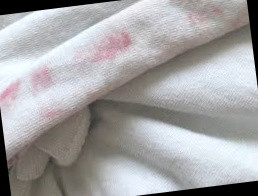lipstick: (72, 37, 135, 64), (188, 7, 234, 27), (26, 67, 54, 93), (36, 108, 74, 124), (0, 78, 23, 104)
